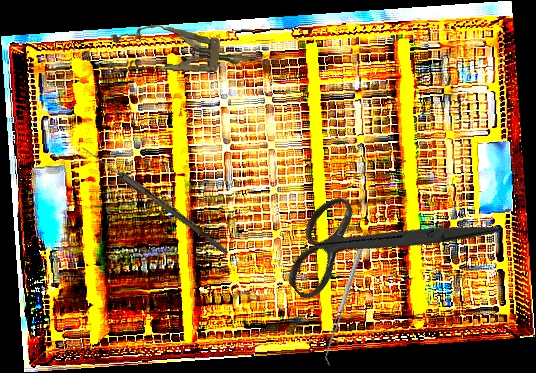Iris Scissors: (263, 127, 503, 358)
Spatula Surgical: (320, 244, 369, 367)
Speculum: (107, 21, 251, 85)
Surgical Spoon: (78, 144, 232, 255)
